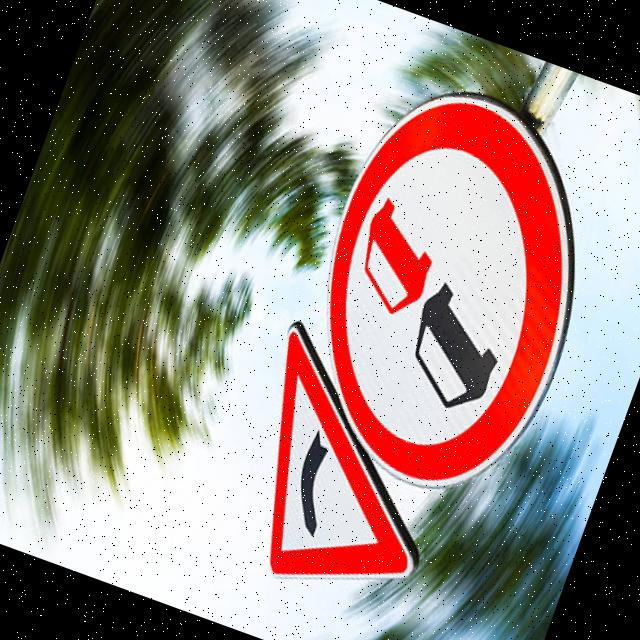no_passing: (318, 82, 587, 496)
